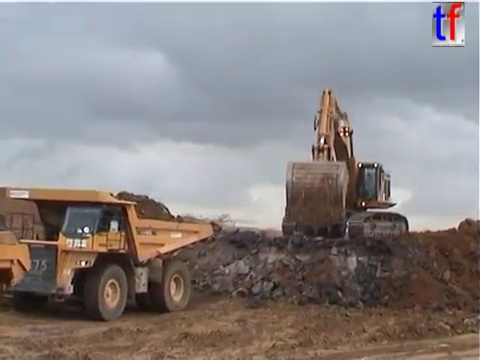excavator: (279, 86, 412, 248)
truck: (1, 185, 216, 323), (1, 228, 34, 289)
